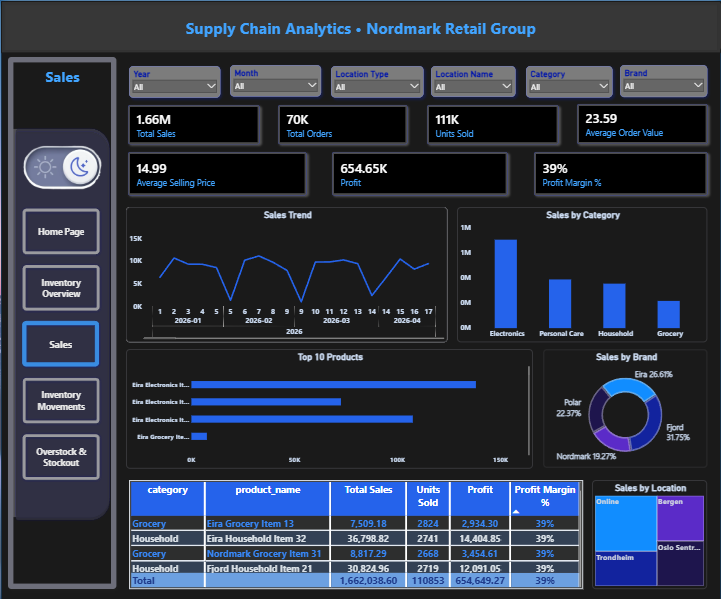

The page's visual inventory and layout, read from the dashboard file:
{"tool":"powerbi","page":{"name":"Sales","canvas":[3600,3000],"ordinal":2},"visuals":[{"type":"slicer","fields":{"Values":["dim_date.Month (Short)"]},"box":[1152.7,332.7,456.4,158],"z":0,"group":"g3"},{"type":"cardVisual","fields":{"Data":["A Measures.Total Sales"]},"box":[635,548.2,658.2,196.2],"z":0,"group":"g1"},{"type":"cardVisual","fields":{"Data":["A Measures.Average Selling Price"]},"box":[635.9,779.5,893.2,216.8],"z":0,"group":"g2"},{"type":"shape","box":[33.7,280.5,542.4,2659.6],"z":1000},{"type":"slicer","fields":{"Values":["silver__location_master__lite.location_name"]},"box":[2162.2,335.8,423.3,155],"z":1000,"group":"g3"},{"type":"cardVisual","fields":{"Data":["A Measures.Total Orders"]},"box":[1385.1,548.2,647.1,196.2],"z":1000,"group":"g1"},{"type":"cardVisual","fields":{"Data":["A Measures.Profit"]},"box":[1653.9,779.5,878.2,216.8],"z":1000,"group":"g2"},{"type":"slicer","fields":{"Values":["silver__product_master__lite.brand"]},"box":[3104.7,331.7,436.5,161],"z":2000,"group":"g3"},{"type":"cardVisual","fields":{"Data":["A Measures.Units Sold"]},"box":[2127.8,548.2,658.2,196.2],"z":2000,"group":"g1"},{"type":"shape","box":[43.7,642.2,515,1960],"z":2000},{"type":"cardVisual","fields":{"Data":["A Measures.Profit Margin %"]},"box":[2663.7,777.7,867.8,217],"z":2000,"group":"g2"},{"type":"slicer","fields":{"Values":["silver__product_master__lite.category"]},"box":[2635.1,335.8,433.2,158],"z":3000,"group":"g3"},{"type":"cardVisual","fields":{"Data":["A Measures.Average Order Value"]},"box":[2881.1,545,653.9,200.3],"z":3000,"group":"g1"},{"type":"slicer","fields":{"Values":["dim_date.Year"]},"box":[649.7,335.8,457.4,159.4],"z":4000,"group":"g3"},{"type":"group","id":"g1","title":"Group 2","box":[635,545,2900,200.3],"z":4000},{"type":"slicer","fields":{"Values":["silver__location_master__lite.location_type"]},"box":[1658.4,335.8,463,158],"z":5000,"group":"g3"},{"type":"group","id":"g2","title":"Group 2","box":[635.9,777.7,2895.6,218.6],"z":6000},{"type":"lineChart","title":"Sales Trend","fields":{"Category":["dim_date.Year","dim_date.Year-Month","dim_date.ISO Week Number"],"Y":["A Measures.Total Sales"]},"box":[624.7,1028.7,1608.5,677.1],"z":10000},{"type":"clusteredColumnChart","title":"Sales by Category","fields":{"Category":["silver__product_master__lite.category"],"Y":["A Measures.Total Sales"]},"box":[2280,1030,1252.4,676.7],"z":11000},{"type":"pageNavigator","box":[99.9,1042.8,407.5,1386.5],"z":12000},{"type":"image","box":[41.1,669.6,540,300],"z":13000},{"type":"textbox","box":[74.8,325.4,445.1,351.6],"z":14000},{"type":"shape","box":[0,0,3598.5,250.6],"z":15000},{"type":"clusteredBarChart","title":"Top 10 Products","fields":{"Category":["silver__product_master__lite.product_name"],"Y":["A Measures.Total Sales"]},"box":[624.7,1739.4,2034.9,598.5],"z":21000},{"type":"donutChart","title":"Sales by Brand","fields":{"Category":["silver__product_master__lite.brand"],"Y":["A Measures.Total Sales"]},"box":[2708.2,1739.4,822.9,594.8],"z":22000},{"type":"tableEx","fields":{"Values":["silver__product_master__lite.category","silver__product_master__lite.product_name","A Measures.Total Sales","A Measures.Units Sold","A Measures.Profit","A Measures.Profit Margin %"]},"box":[635.9,2394,2270.6,546.1],"z":23000},{"type":"treemap","title":"Sales by Location","fields":{"Group":["silver__location_master__lite.location_name"],"Values":["A Measures.Total Sales"]},"box":[2955.1,2394,576.1,546.1],"z":24000},{"type":"group","id":"g3","title":"Group 1","box":[649.7,331.7,2891.5,157.1],"z":28000}]}

Visuals, with their boxes in screenshot pixels (x1, y1, x2, y2), scaled from the page's 3600x3000 canvas onto the 721x599 screenshot:
slicer - dim_date.Month (Short): 231:66:322:98
cardVisual - A Measures.Total Sales: 127:109:259:149
cardVisual - A Measures.Average Selling Price: 127:156:306:199
shape: 7:56:115:587
slicer - silver__location_master__lite.location_name: 433:67:518:98
cardVisual - A Measures.Total Orders: 277:109:407:149
cardVisual - A Measures.Profit: 331:156:507:199
slicer - silver__product_master__lite.brand: 622:66:709:98
cardVisual - A Measures.Units Sold: 426:109:558:149
shape: 9:128:112:520
cardVisual - A Measures.Profit Margin %: 533:155:707:199
slicer - silver__product_master__lite.category: 528:67:615:99
cardVisual - A Measures.Average Order Value: 577:109:708:149
slicer - dim_date.Year: 130:67:222:99
"Group 2" group: 127:109:708:149
slicer - silver__location_master__lite.location_type: 332:67:425:99
"Group 2" group: 127:155:707:199
"Sales Trend" lineChart: 125:205:447:341
"Sales by Category" clusteredColumnChart: 457:206:707:341
pageNavigator: 20:208:102:485
image: 8:134:116:194
textbox: 15:65:104:135
shape: 0:0:720:50
"Top 10 Products" clusteredBarChart: 125:347:533:467
"Sales by Brand" donutChart: 542:347:707:466
tableEx - silver__product_master__lite.category x silver__product_master__lite.product_name: 127:478:582:587
"Sales by Location" treemap: 592:478:707:587
"Group 1" group: 130:66:709:98
